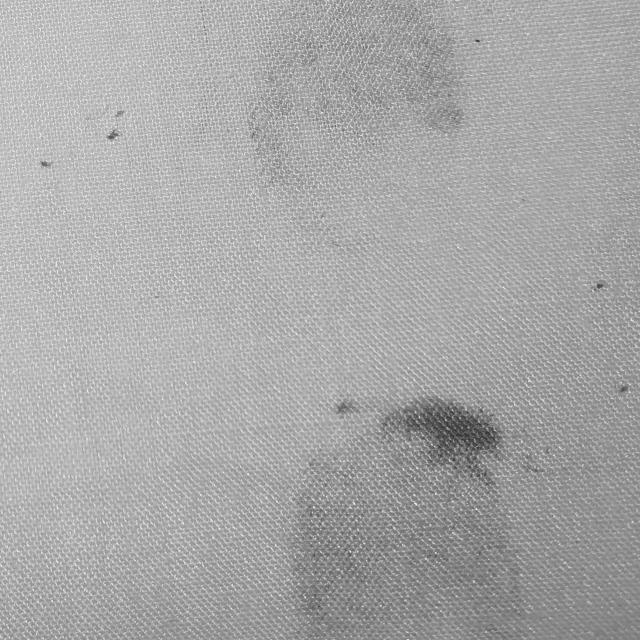Thread_other: (256, 372, 554, 640), (224, 0, 472, 261), (0, 58, 166, 241), (573, 224, 640, 413)
